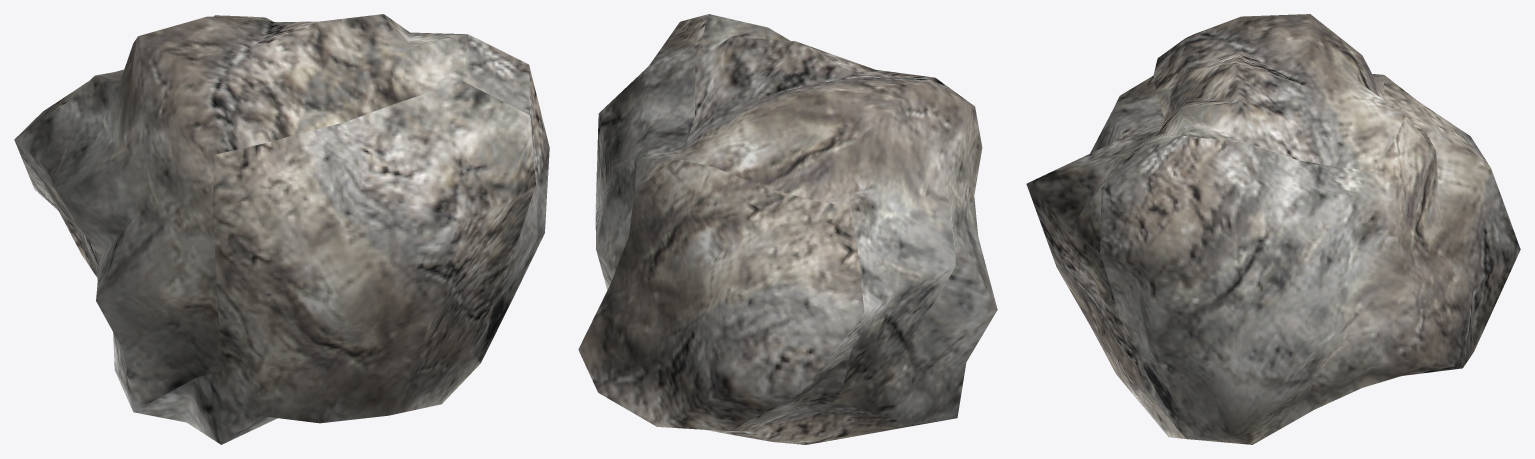
The model's file is rockA.FBX.
3 views of the same model, side by side, from view 1: azimuth 30°, elevation 25°; view 2: azimuth 150°, elevation 25°; view 3: azimuth 270°, elevation 25° (orthographic). The views are drawn at different scales.
Visible parts, largest first — view 1: rockLP004; view 2: rockLP004; view 3: rockLP004.
Part boxes in pixels (x1=…): rockLP004: x1=14, y1=14, x2=549, y2=444; rockLP004: x1=578, y1=14, x2=997, y2=444; rockLP004: x1=1026, y1=14, x2=1520, y2=444.
Size of the model in its own units: 301 by 261 by 334.
1 material, 1 textured.
